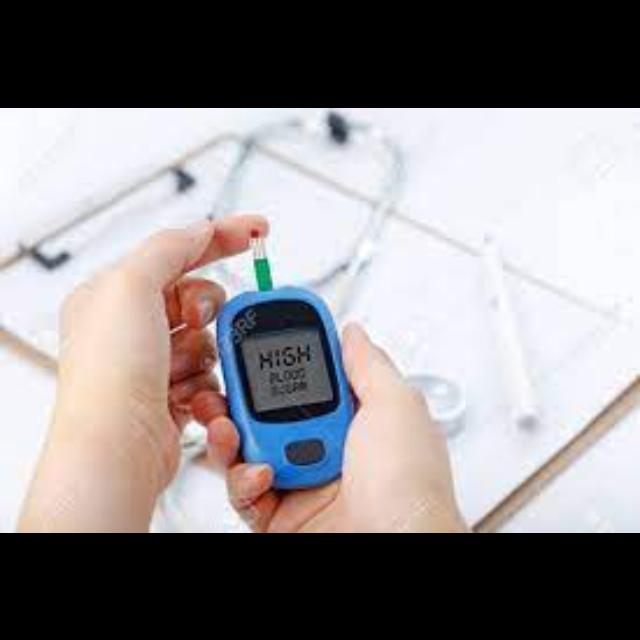Glucose-Meter: (217, 237, 356, 489)
